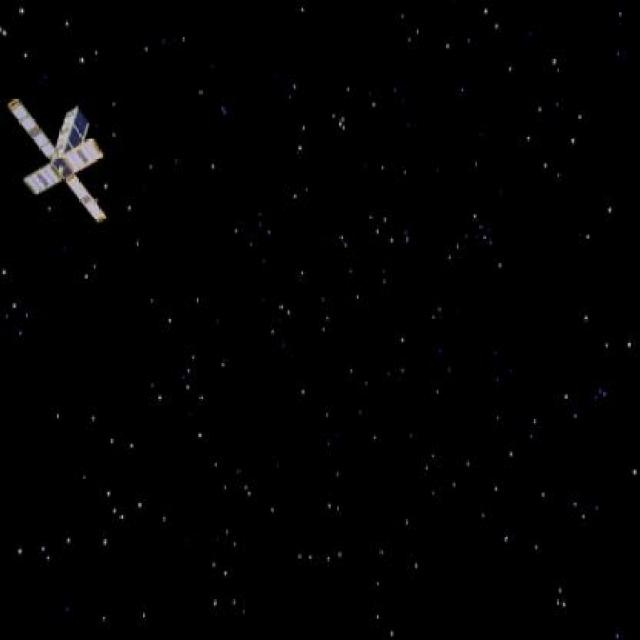medium_debris: (7, 92, 125, 226)
